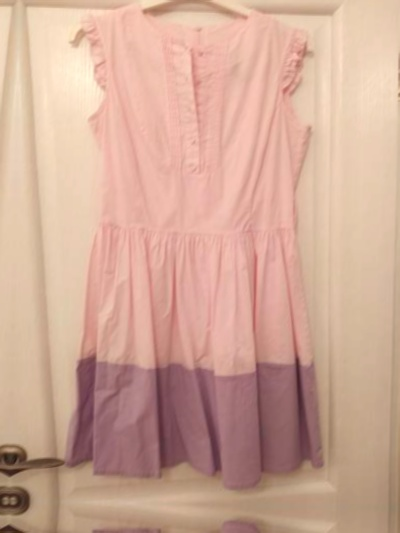Dress: (40, 8, 357, 475)
